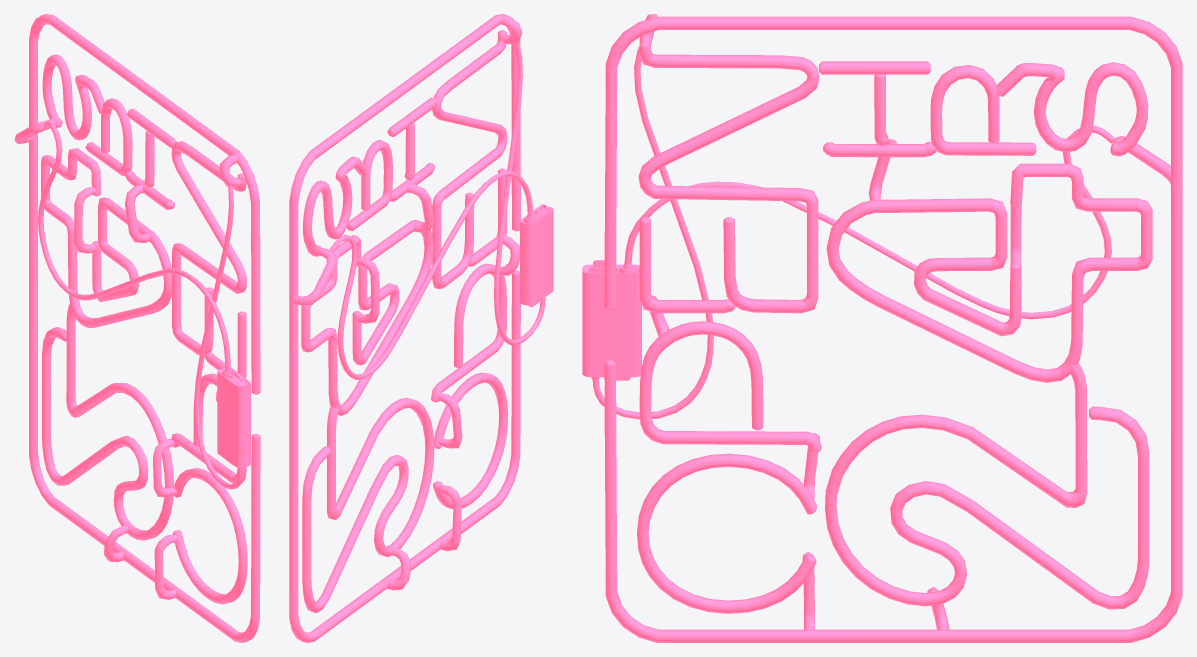
Rendered from sign_neon_small.dae.
3 views of the same model, side by side, from view 1: azimuth 30°, elevation 25°; view 2: azimuth 150°, elevation 25°; view 3: azimuth 270°, elevation 25° (orthographic). The views are drawn at different scales.
Visible parts, largest first — view 1: sign_neon_24h; view 2: sign_neon_24h; view 3: sign_neon_24h.
Boxes of the visible parts, x1,y1,x2,y2 form: sign_neon_24h: (14,14,260,642); sign_neon_24h: (289,14,553,642); sign_neon_24h: (582,14,1182,642).
Size of the model in its own units: 9.98 by 140 by 122.
